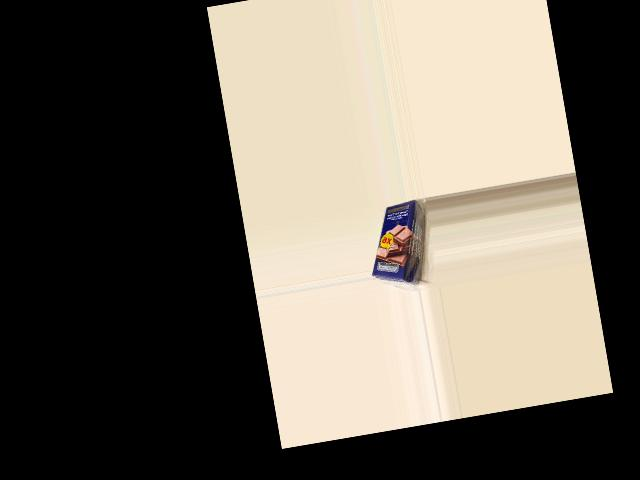chocolate: (360, 198, 433, 286)
